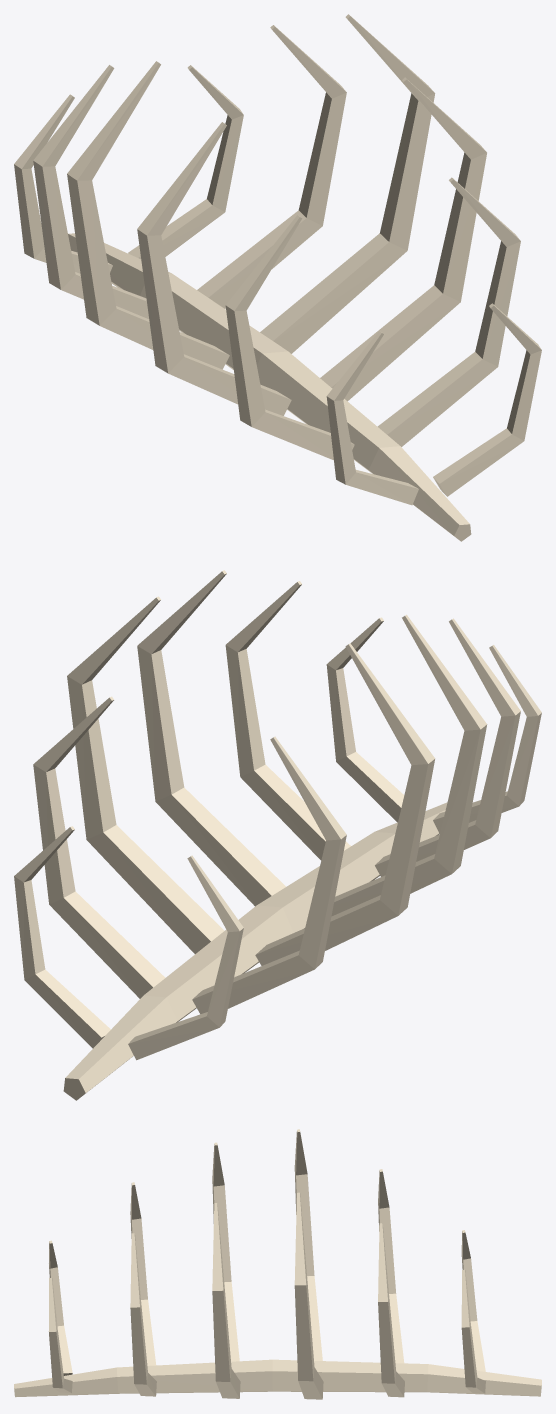
The model's file is Nat_AlienBones_A.fbx.
The picture shows the model from 3 angles, top to bottom: view 1: azimuth 30°, elevation 25°; view 2: azimuth 150°, elevation 25°; view 3: azimuth 270°, elevation 25°; orthographic projection. The views are drawn at different scales.
Visible parts, largest first — view 1: Nat_AlienBones_A; view 2: Nat_AlienBones_A; view 3: Nat_AlienBones_A.
Part boxes in pixels (x1,y1,x2,y2): Nat_AlienBones_A: (14, 14, 541, 541); Nat_AlienBones_A: (14, 570, 541, 1100); Nat_AlienBones_A: (14, 1129, 541, 1399).
Size of the model in its own units: 5.47 by 5.06 by 10.23.
